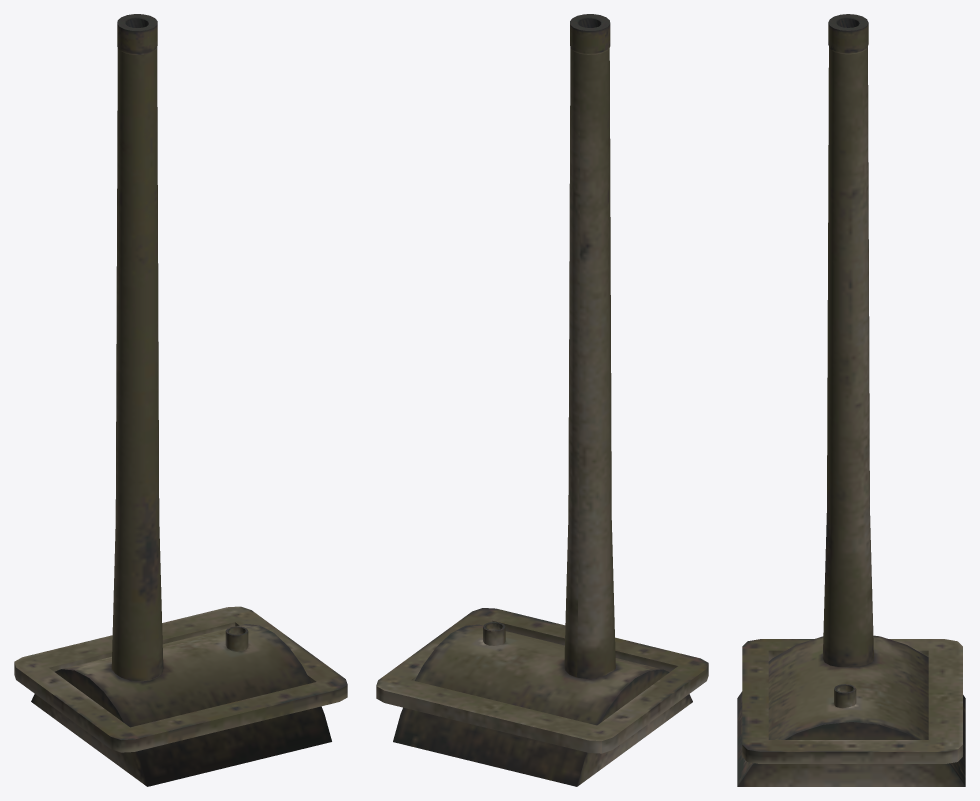
Rendered from Gun_09.glb.
The picture shows the model from 3 angles, left to right: view 1: azimuth 30°, elevation 25°; view 2: azimuth 150°, elevation 25°; view 3: azimuth 270°, elevation 25°; orthographic projection.
Visible parts, largest first — view 1: set_0_group_0; view 2: set_0_group_0; view 3: set_0_group_0.
Boxes of the visible parts, x1,y1,x2,y2 form: set_0_group_0: (14, 14, 347, 786); set_0_group_0: (376, 14, 708, 786); set_0_group_0: (737, 14, 965, 786).
Size of the model in its own units: 0.4837 by 1.4 by 0.4144.
Materials: 1 (1 with a texture image).
